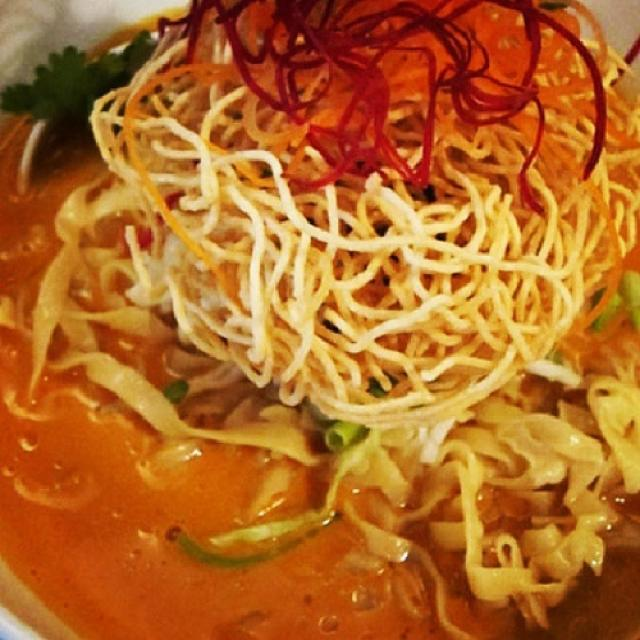面条主食: (36, 15, 608, 594)
